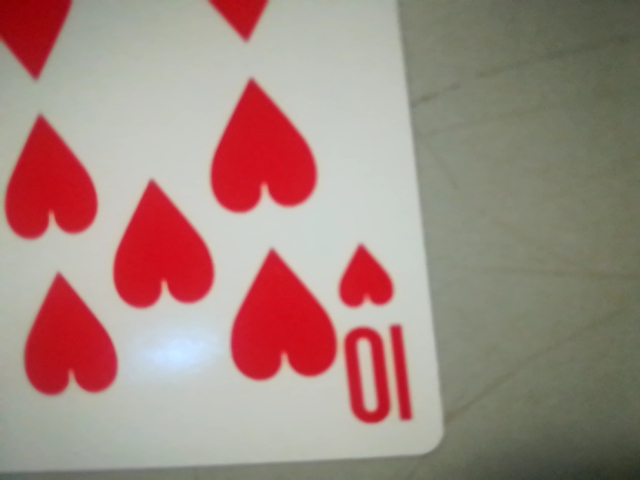hx 10: (330, 221, 432, 444)
